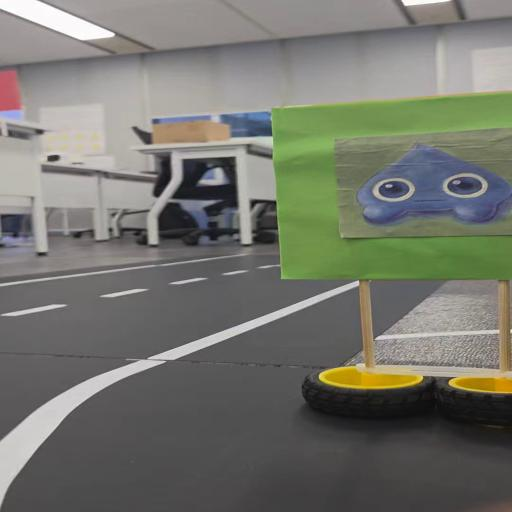Sign_B: (267, 105, 512, 416)
